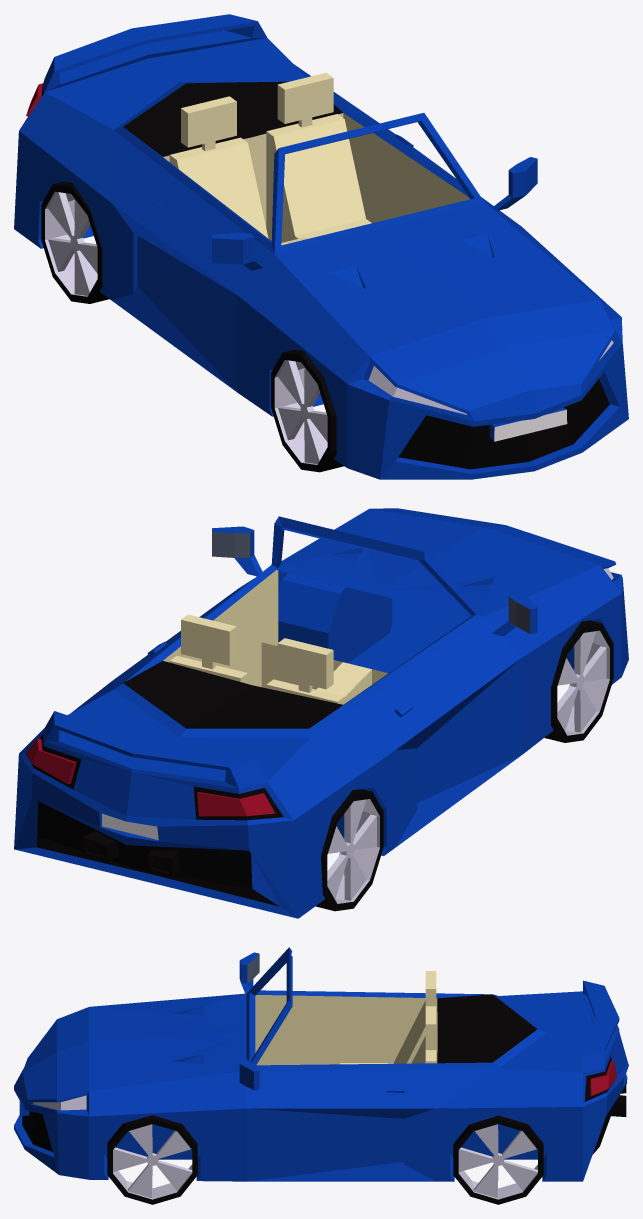
The model's file is 005-Roadster.glb.
3 renders of one model, top to bottom at view 1: azimuth 30°, elevation 25°; view 2: azimuth 150°, elevation 25°; view 3: azimuth 270°, elevation 25°, orthographic. The views are drawn at different scales.
Visible parts, largest first — view 1: Roadster, Roadster wheel front right, Roadster wheel rear right; view 2: Roadster, Roadster wheel front right, Roadster wheel rear right; view 3: Roadster, Roadster wheel front left, Roadster wheel rear left.
Part boxes in pixels (x1,y1,x2,y2): Roadster: (14, 14, 628, 479); Roadster wheel front right: (271, 349, 343, 472); Roadster wheel rear right: (41, 181, 109, 303); Roadster: (14, 508, 628, 918); Roadster wheel front right: (544, 620, 613, 742); Roadster wheel rear right: (315, 789, 383, 911); Roadster: (14, 947, 628, 1181); Roadster wheel front left: (107, 1115, 197, 1204); Roadster wheel rear left: (453, 1115, 543, 1204).
Size of the model in its own units: 2.63 by 1.84 by 5.73.
